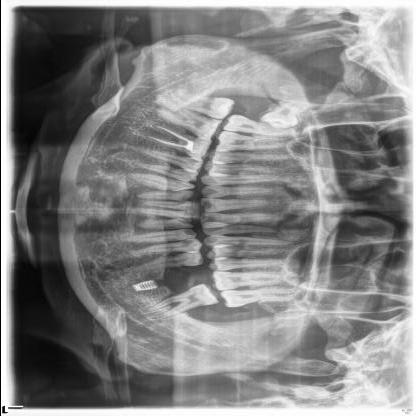Bicon: (127, 276, 159, 294)
